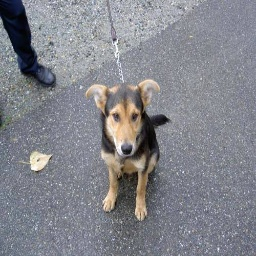dog: (82, 72, 176, 227)
